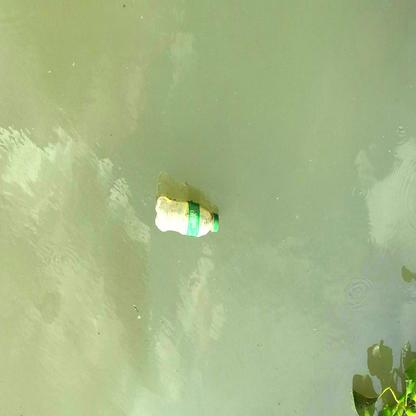plastic bottle: (155, 194, 220, 237)
